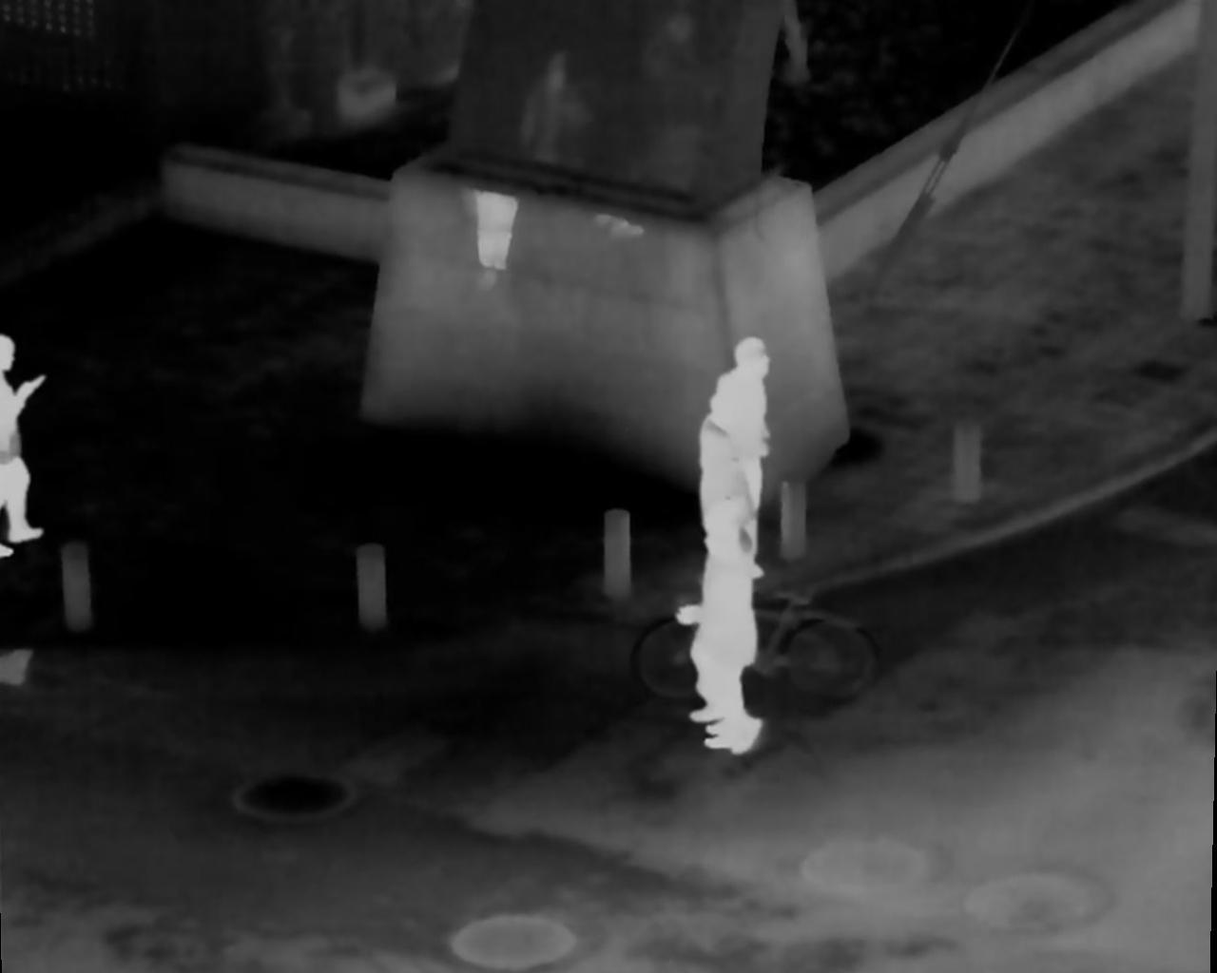person: (682, 527, 770, 757), (696, 336, 776, 529), (698, 393, 774, 575)
